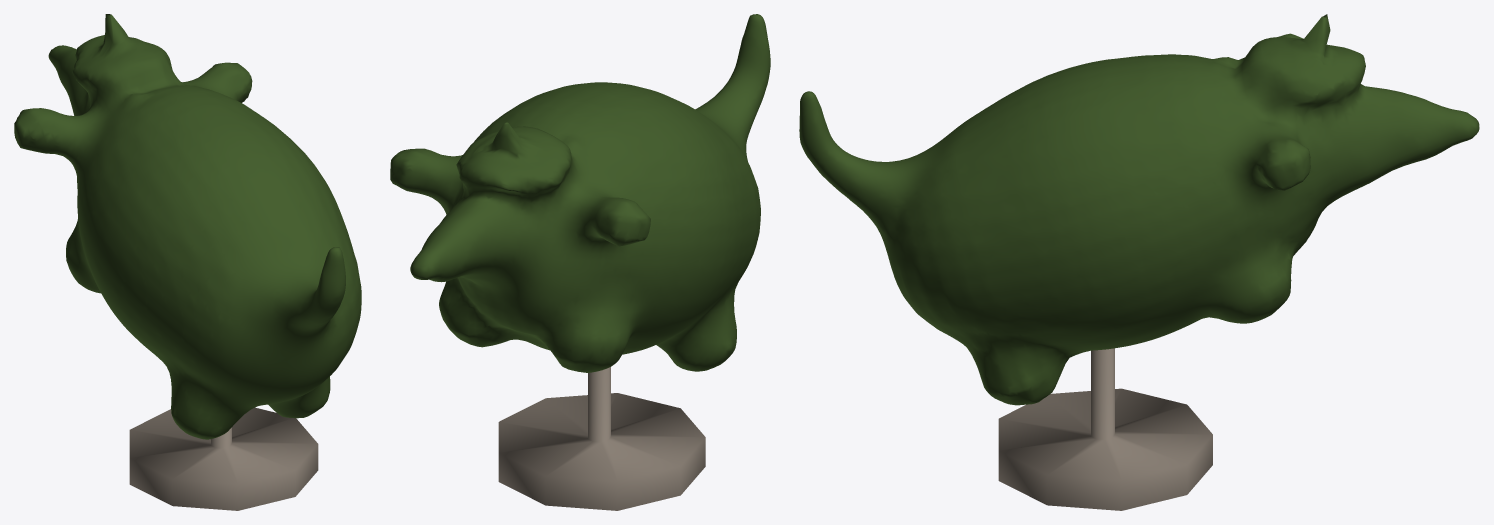
Rendered from buisson_kiki.fbx.
The picture shows the model from 3 angles, left to right: view 1: azimuth 30°, elevation 25°; view 2: azimuth 150°, elevation 25°; view 3: azimuth 270°, elevation 25°; orthographic projection. The views are drawn at different scales.
Visible parts, largest first — view 1: kiki buisson; view 2: kiki buisson; view 3: kiki buisson.
Boxes of the visible parts, bbox=[...] form: kiki buisson: bbox=[14, 14, 361, 510]; kiki buisson: bbox=[390, 14, 770, 510]; kiki buisson: bbox=[799, 14, 1479, 510].
Bounding box in the file's own units: 689 × 1544 × 1106.
